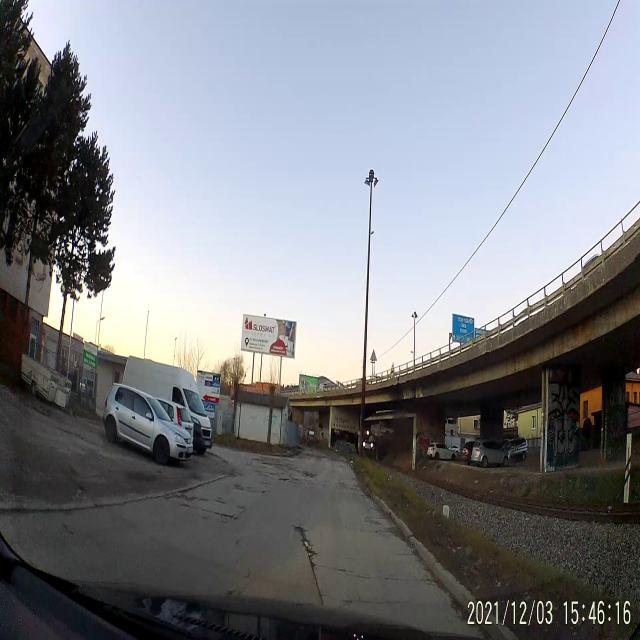Pothole: (292, 519, 318, 573), (214, 508, 240, 524)
